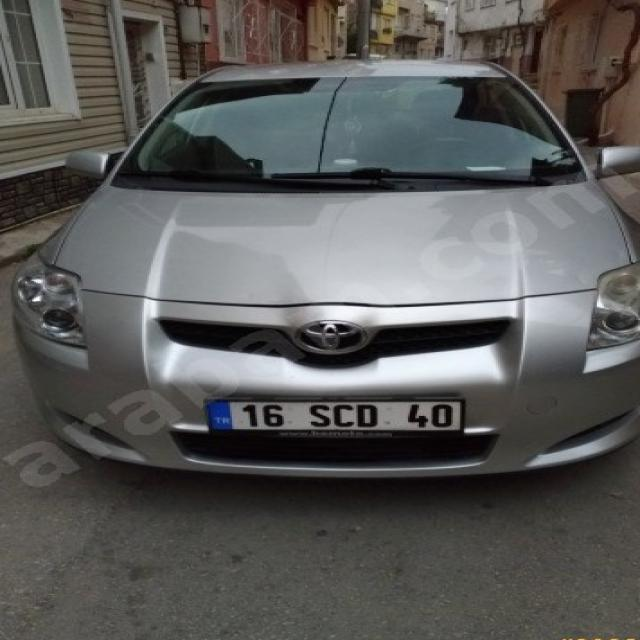license_plate: (204, 399, 463, 432)
